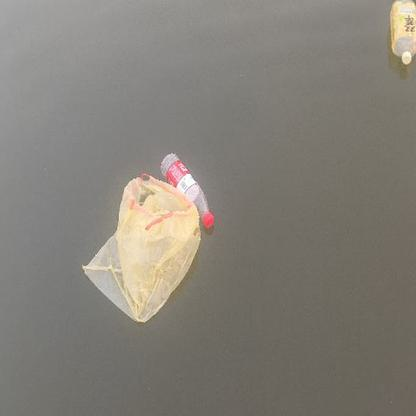plastic bag: (81, 173, 201, 322)
plastic bottle: (160, 153, 216, 228), (386, 1, 416, 61)
